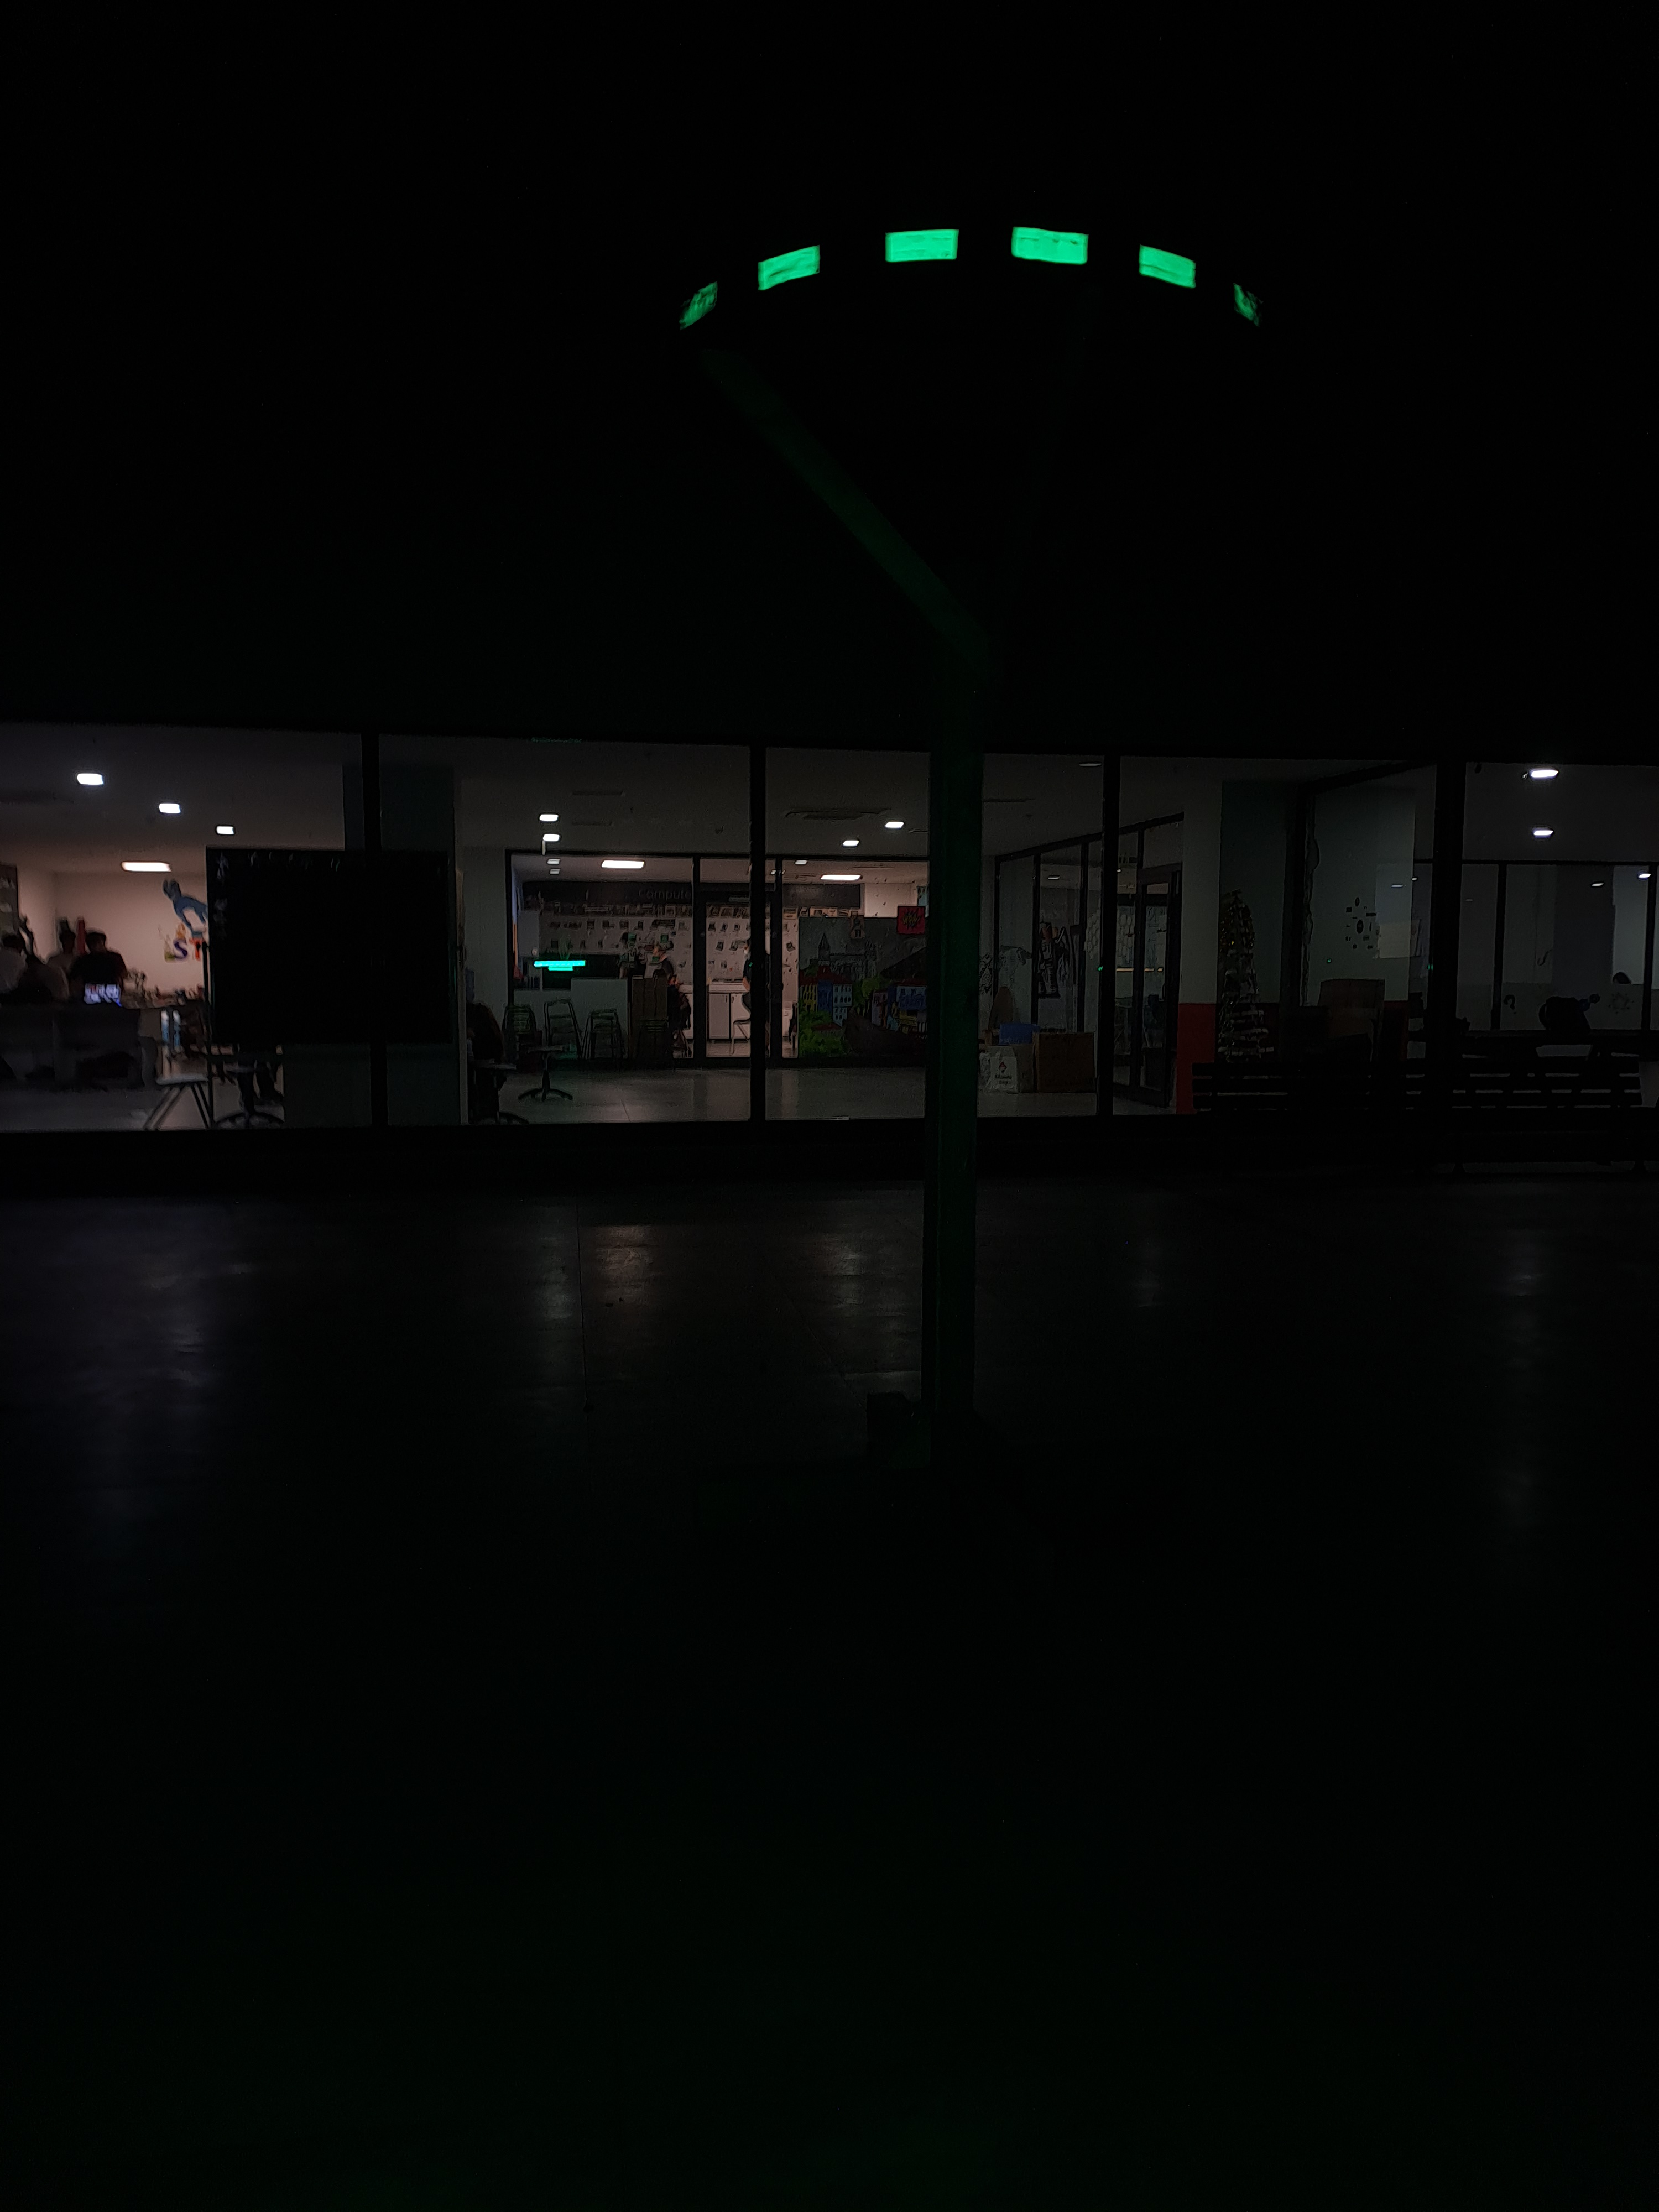hoop: (681, 221, 1267, 333)
